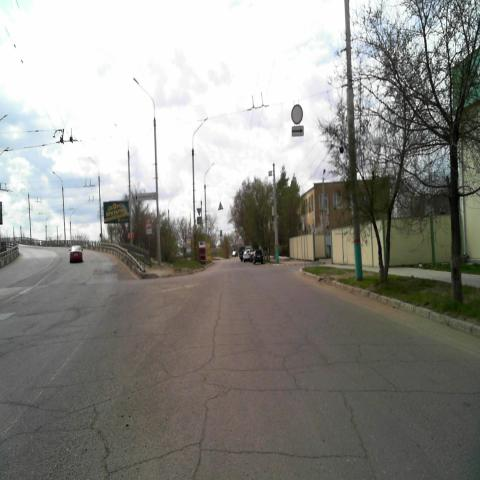3_2: (291, 104, 303, 124)
8_3_1: (291, 125, 304, 136)
